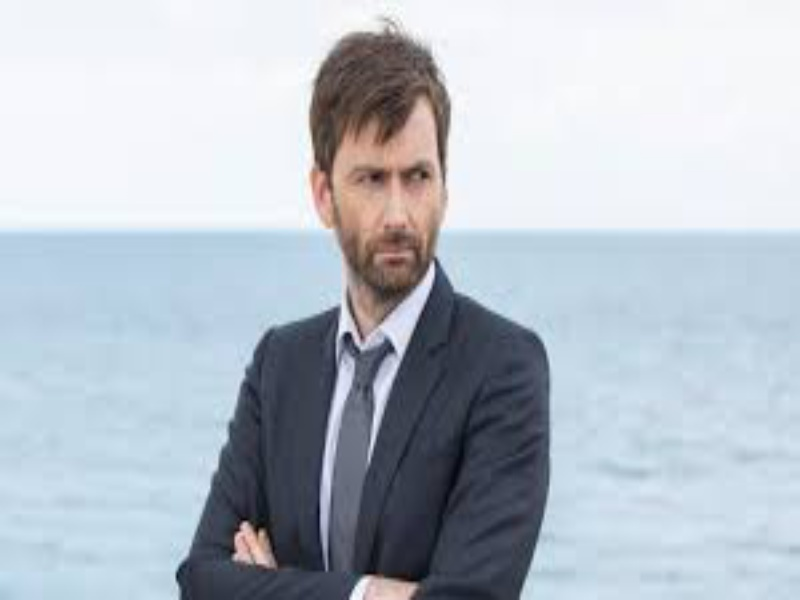TsisyArotava: (300, 37, 455, 297)
